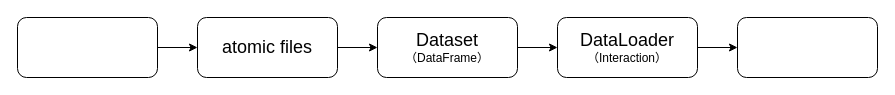
Image size: 895x95. Some labels were removed from this diagram. Here are the shapes that lost their labels. From the top down, the box of each, then its label:
(16, 16, 158, 78): raw input
(736, 16, 878, 78): algorithms
